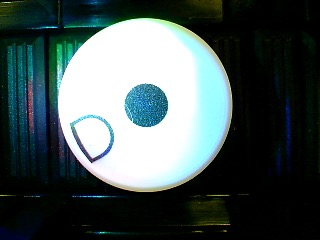BOHOMIPO1: (56, 17, 233, 193)
